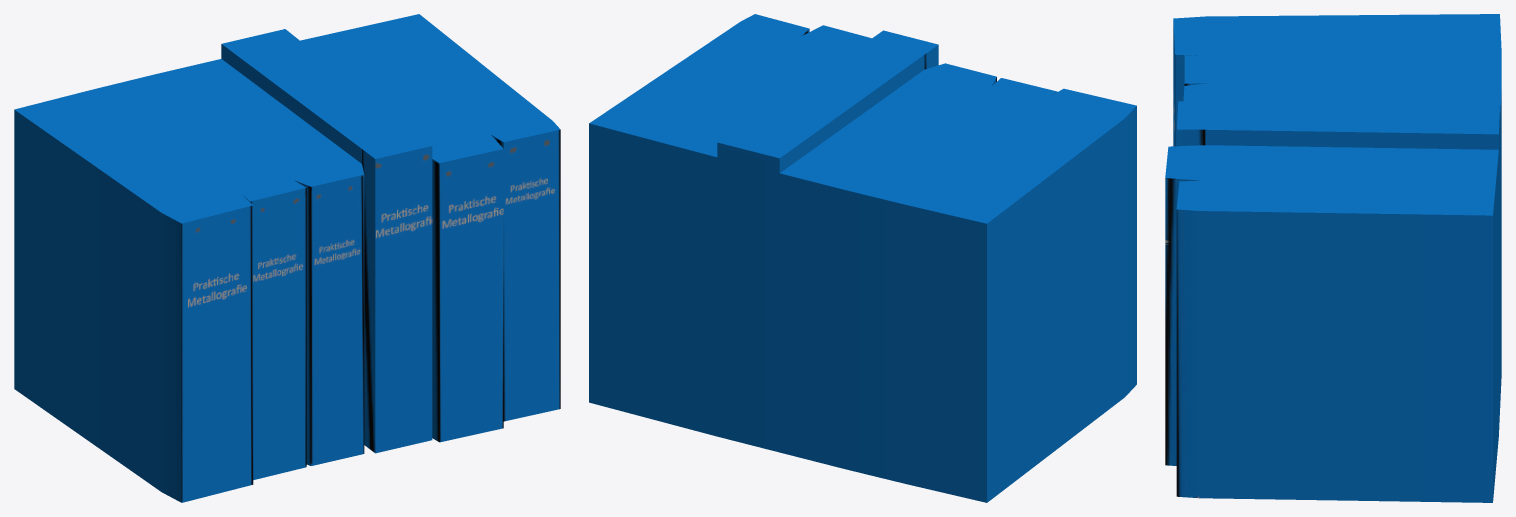
Rendered from Bücher_2.fbx.
3 views of the same model, side by side, from view 1: azimuth 30°, elevation 25°; view 2: azimuth 150°, elevation 25°; view 3: azimuth 270°, elevation 25° (orthographic). The views are drawn at different scales.
Parts seen in each view (by area): view 1: Bücher; view 2: Bücher; view 3: Bücher.
Boxes of the visible parts, bbox=[...] form: Bücher: bbox=[14, 14, 560, 502]; Bücher: bbox=[589, 14, 1136, 502]; Bücher: bbox=[1165, 14, 1501, 502].
Bounding box in the file's own units: 27.68 × 19.38 × 19.52.
Materials: 1 (1 with a texture image).
